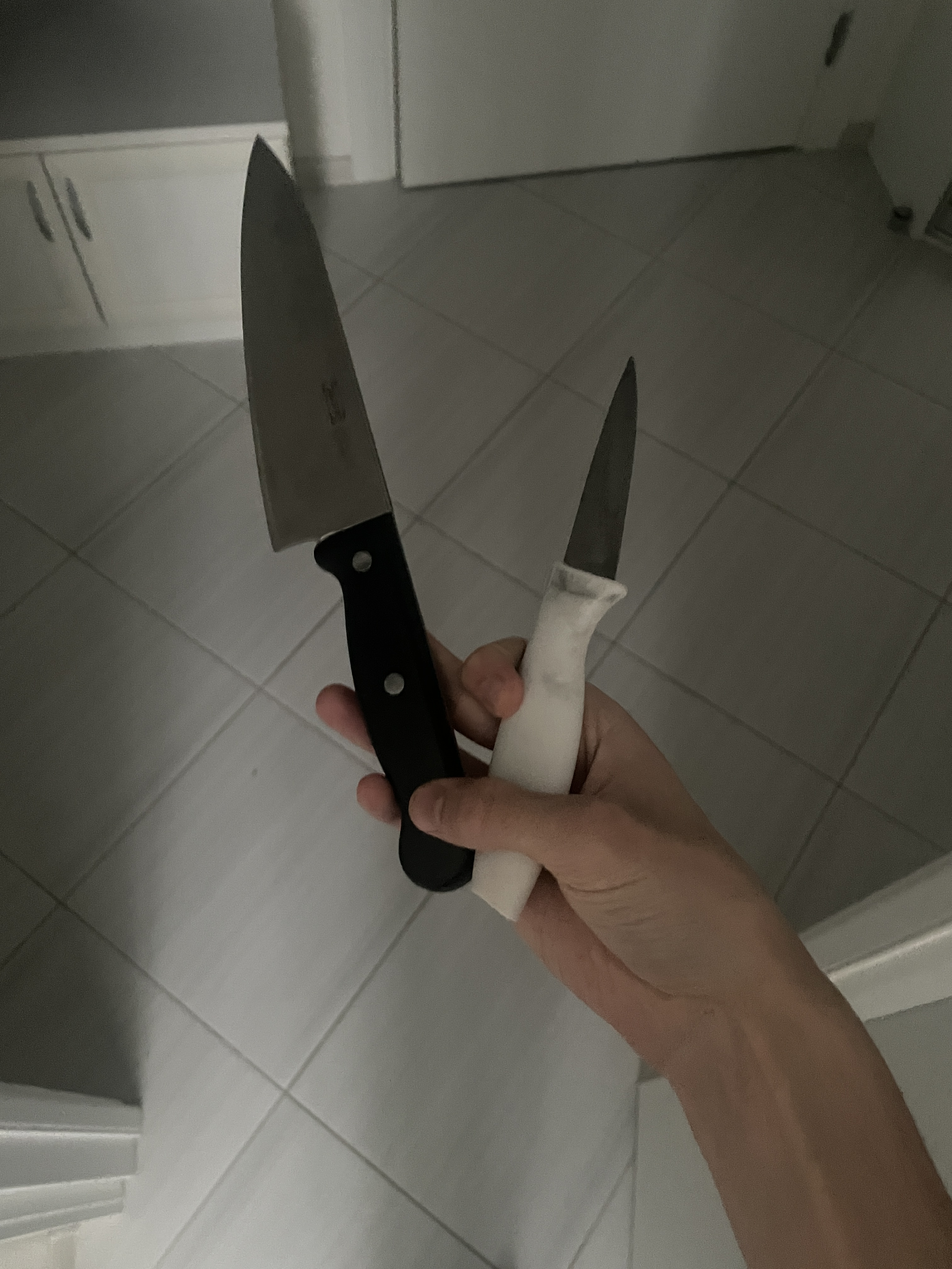knife: (241, 139, 473, 891), (470, 358, 638, 920)
